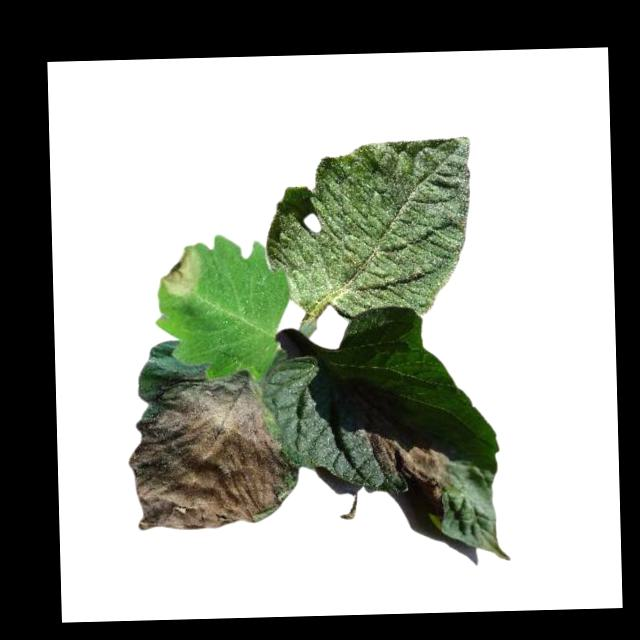Late_blight: (126, 371, 290, 534), (366, 430, 452, 524), (159, 243, 203, 298)
